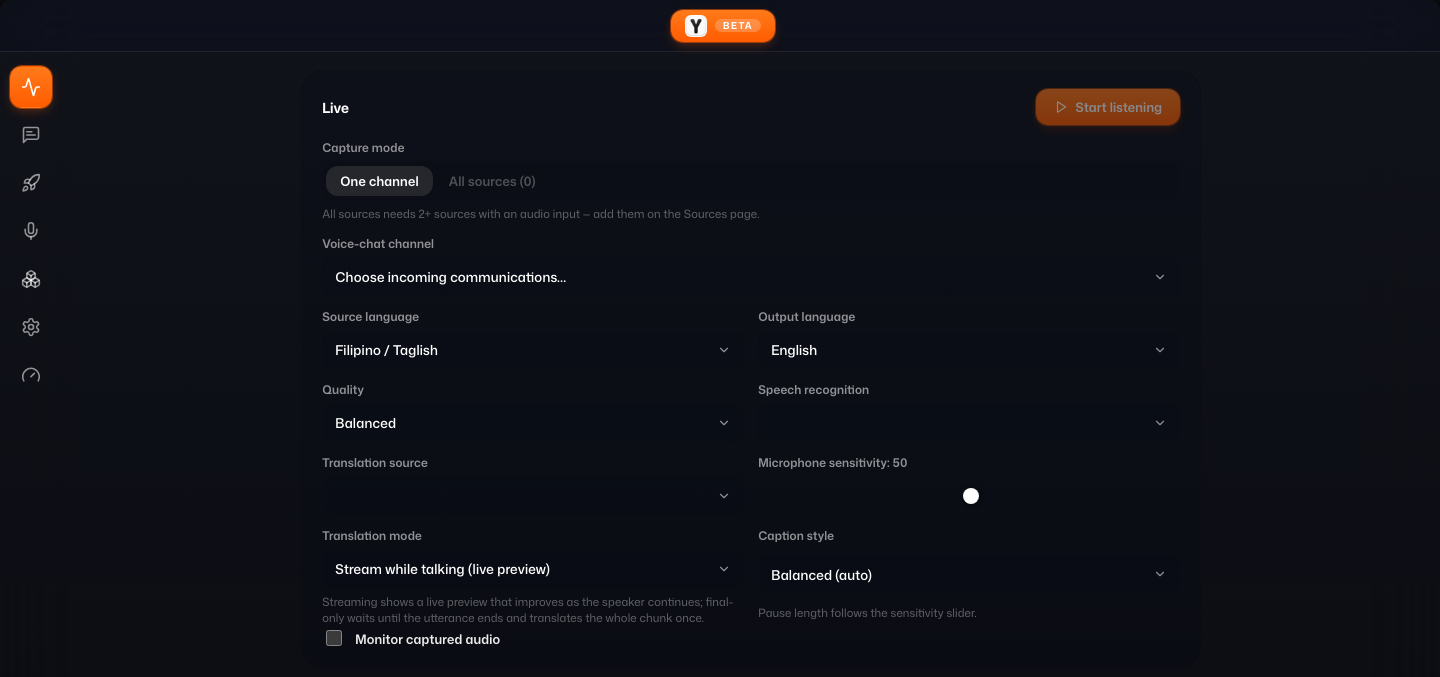
Test: control window › runs the synthetic monitoring route only after both endpoints are chosen
The image size is (1440, 677).
Click the button named "Diagnostics" at point(30, 375), box x1=10 y1=354 x2=52 y2=396
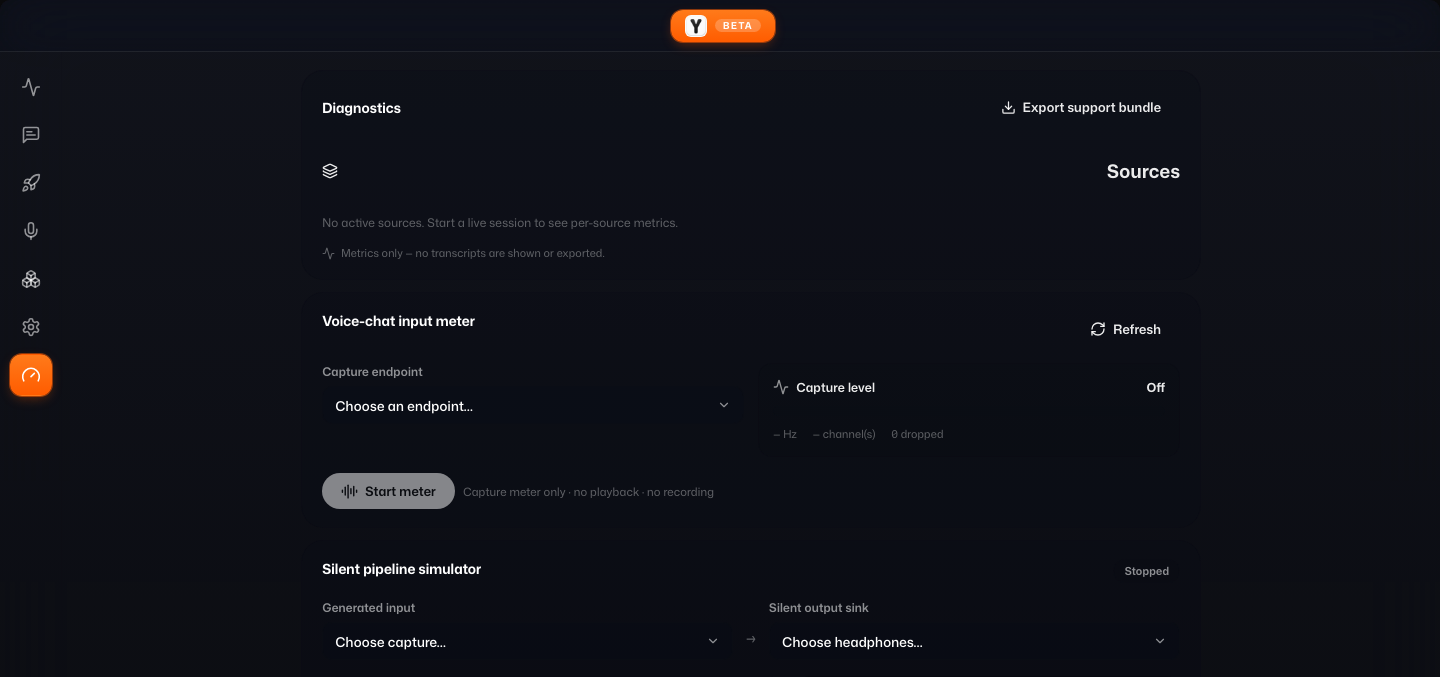
Click the dropdown named "Generated input" at point(390, 641), box x1=322 y1=622 x2=733 y2=660
(page scrolled)
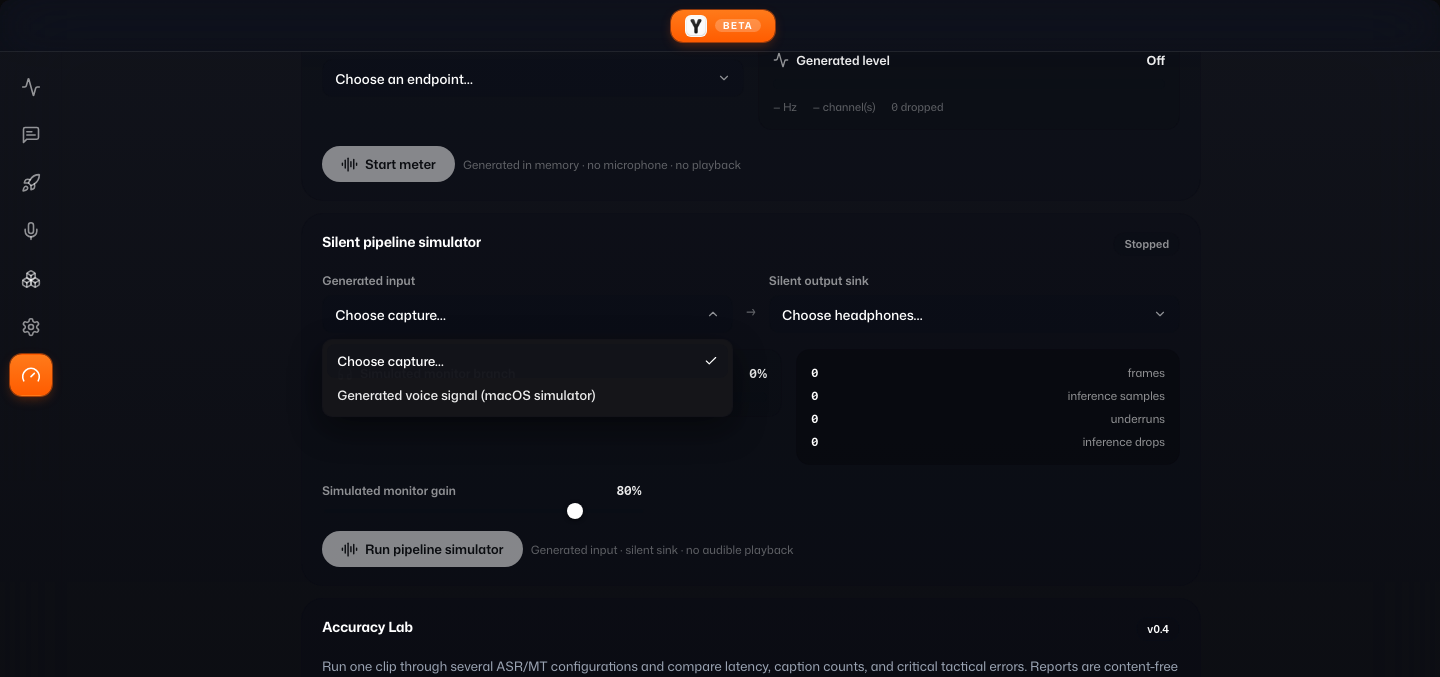
Click the option "Generated voice signal (macOS simulator)" at point(466, 395), box x1=337 y1=386 x2=596 y2=404
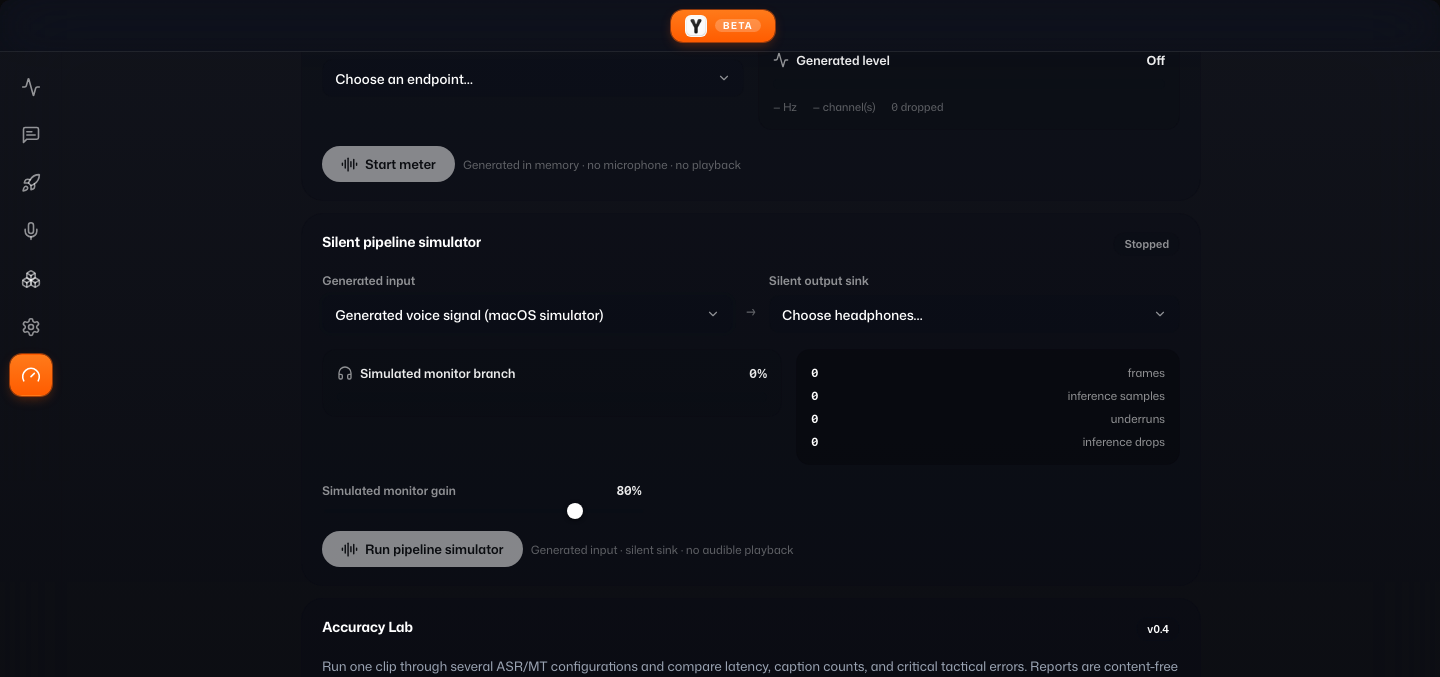
Click the dropdown named "Silent output sink" at point(852, 314), box x1=769 y1=295 x2=1180 y2=333
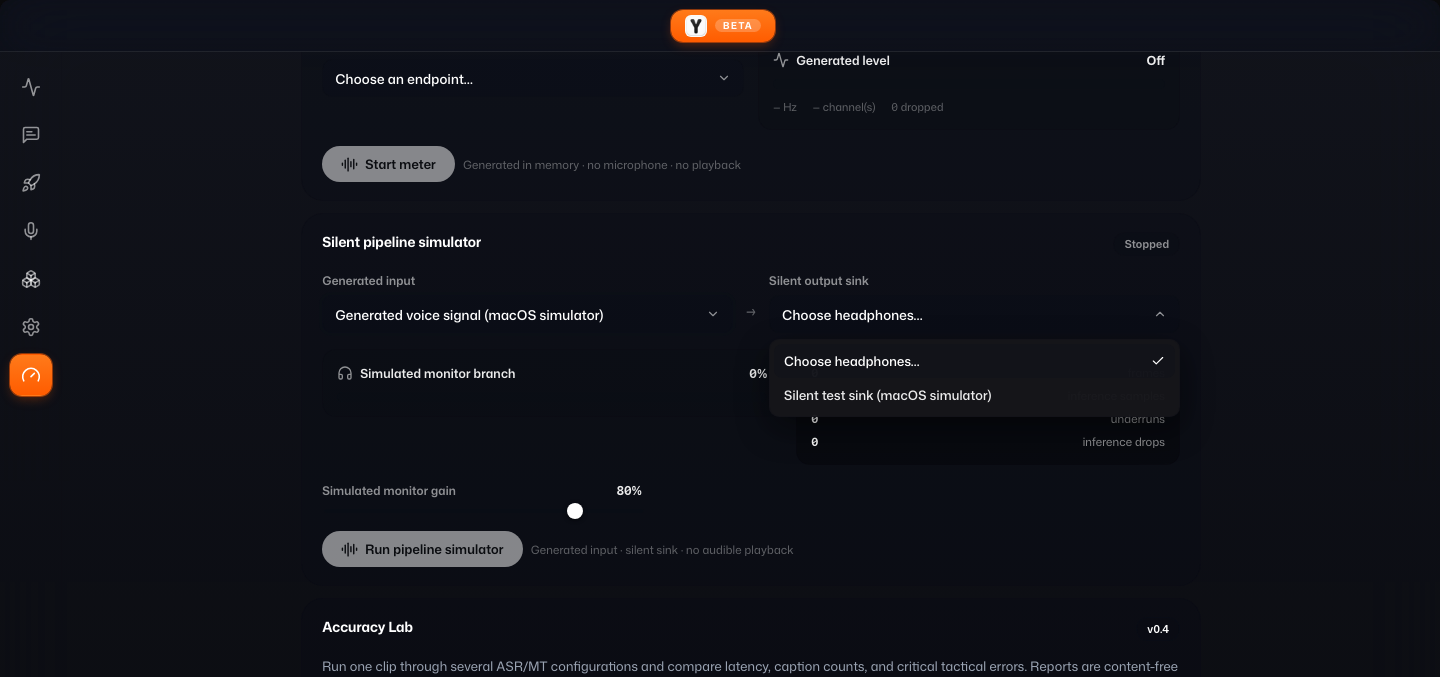
Click the option "Silent test sink (macOS simulator)" at point(888, 395), box x1=784 y1=386 x2=991 y2=404
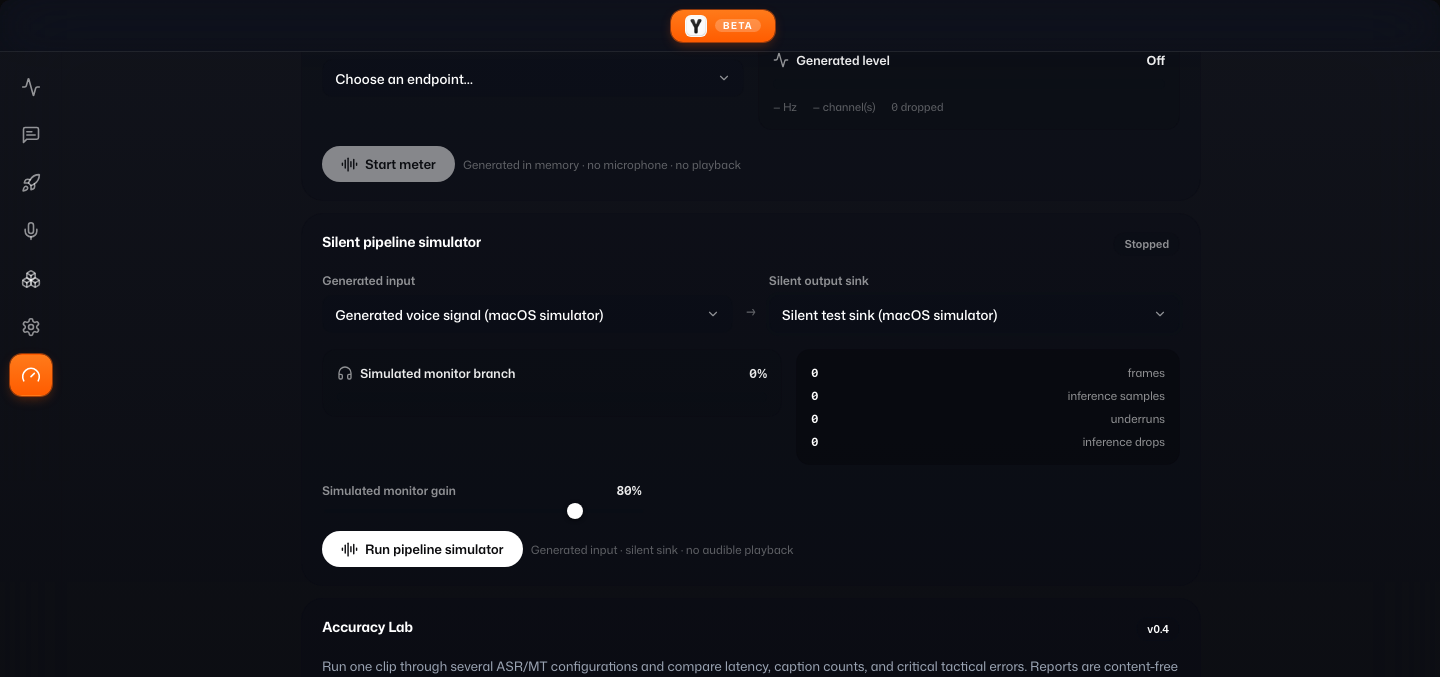
Expected: the button "Run pipeline simulator" is enabled
Click the button "Run pipeline simulator" at point(422, 549), box x1=322 y1=531 x2=523 y2=567
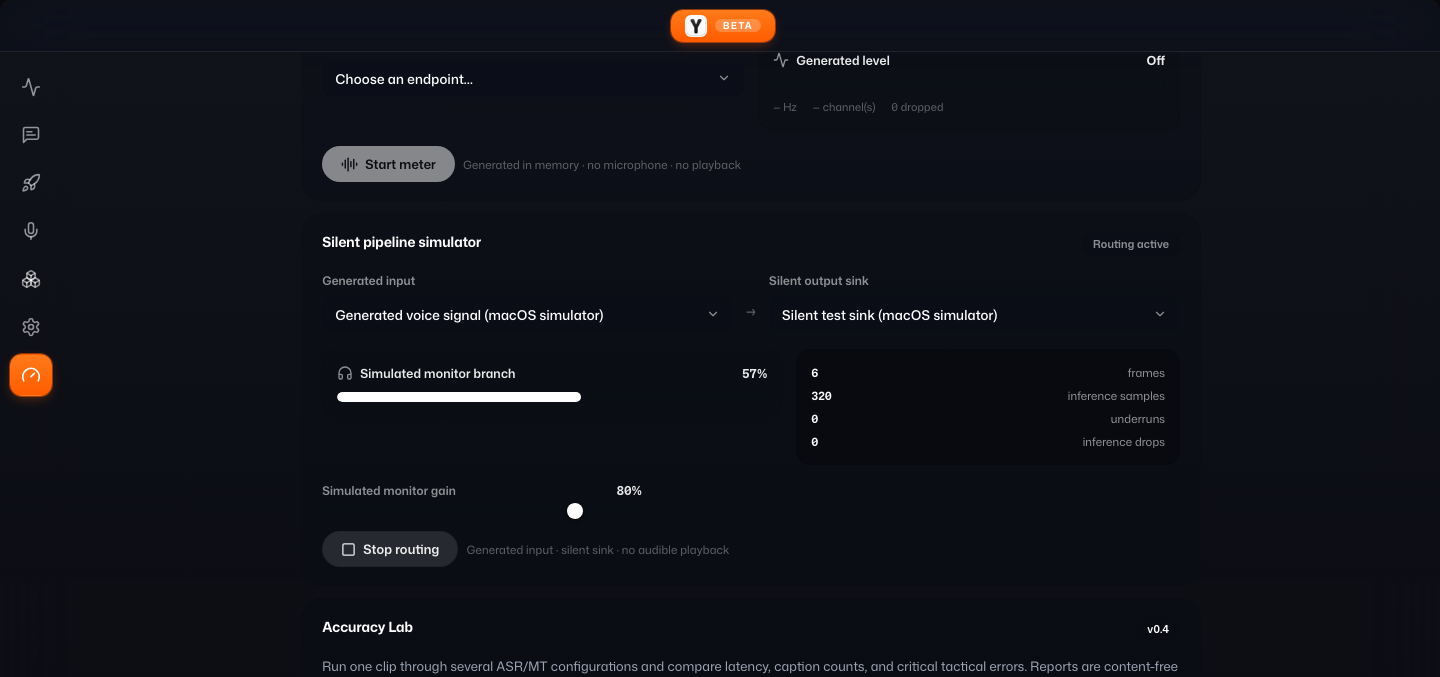
Expected: the text "Routing active" is shown, x1=1082 y1=232 x2=1180 y2=256
